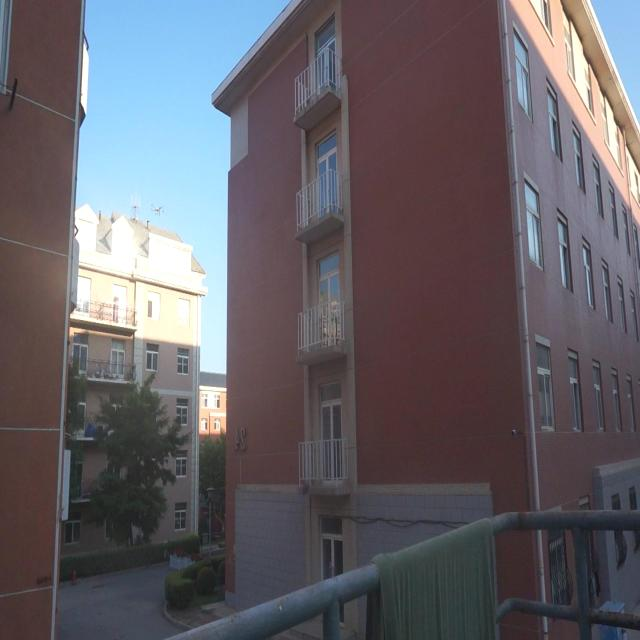drone: (150, 199, 168, 221)
